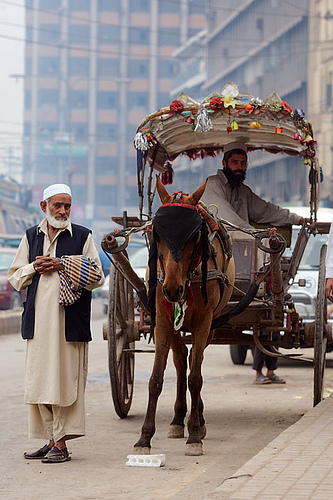horse: (132, 180, 235, 456)
